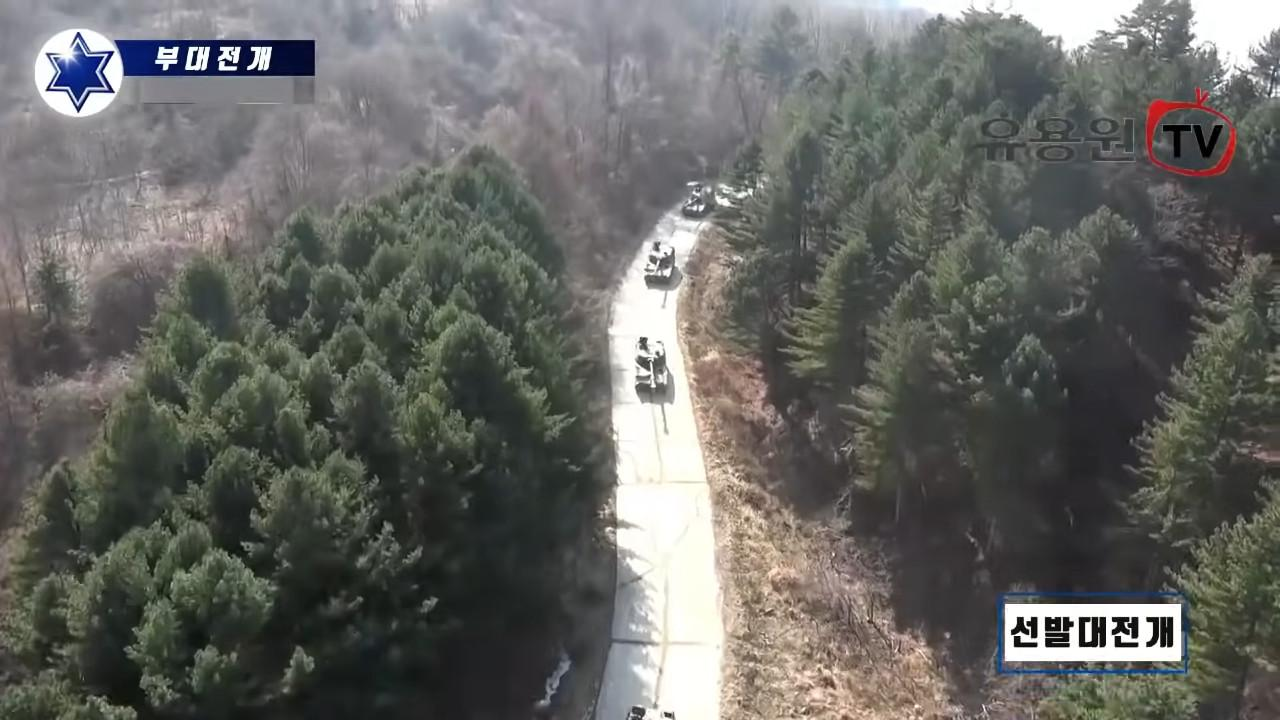tank: (634, 341, 667, 391), (644, 243, 675, 283), (683, 189, 715, 217)
